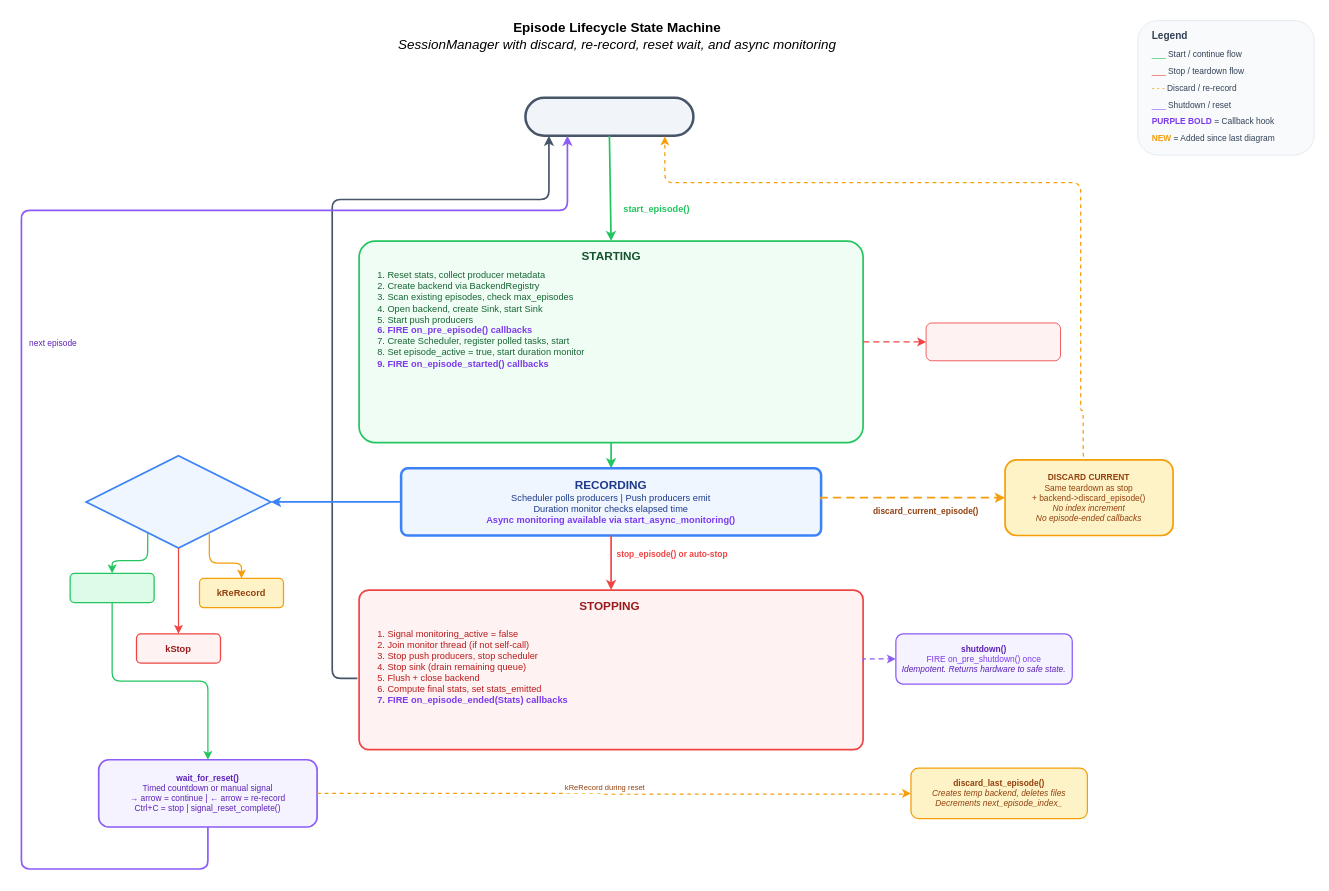
This 1329x891 diagram has some shape labels left out. The shapes that lost their labels are listed below. From the top down, each one's centre as x and y in pixels, then its label:
At point 609,116: "INACTIVE".
At point 992,341: "ABORT + CLEANUP if callback returns false".
At point 178,501: "monitor_episode() or wait_for_auto_stop()".
At point 111,587: "kContinue".
